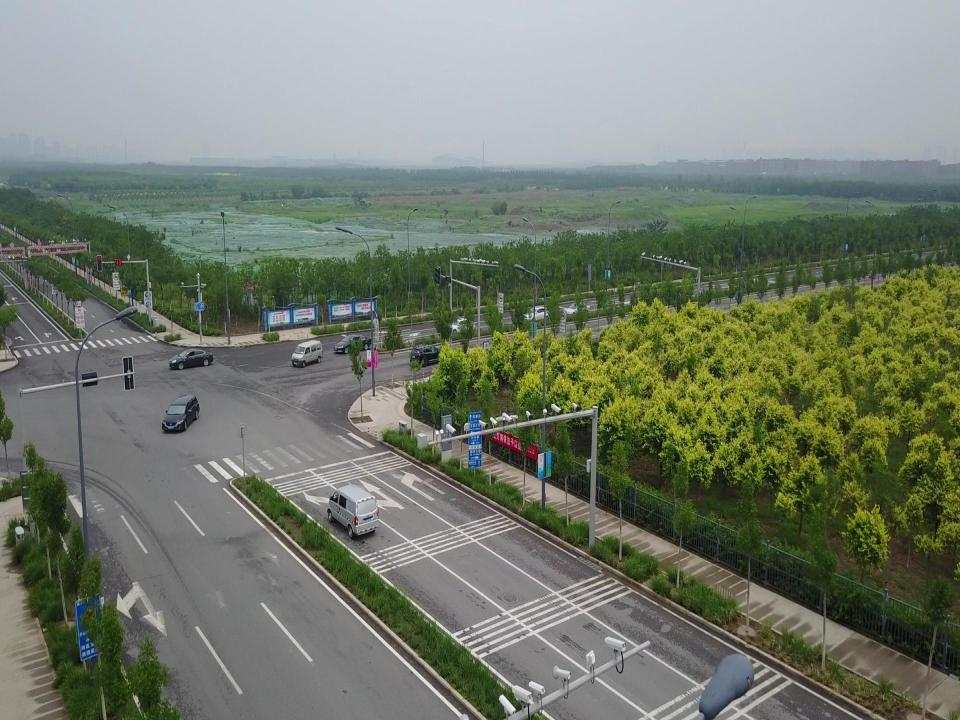car: (161, 393, 200, 434), (168, 347, 214, 370), (409, 343, 447, 367), (332, 333, 372, 355), (445, 317, 477, 336), (522, 304, 554, 322), (563, 301, 591, 319)
van: (326, 483, 380, 540), (290, 339, 324, 368)
